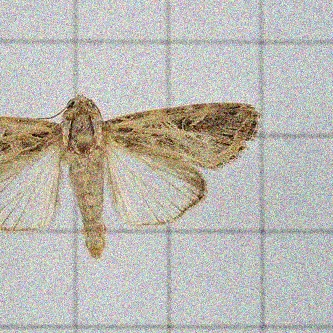Spodoptera litura: (1, 94, 263, 260)
